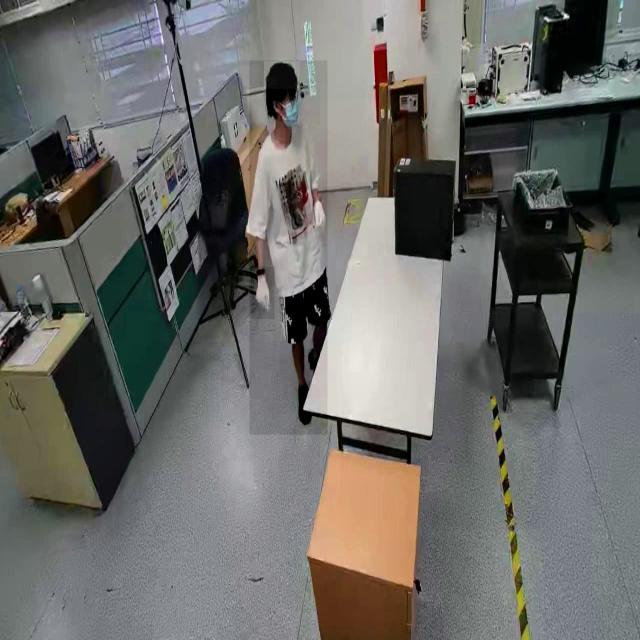face_mask: (276, 90, 302, 129)
hand_glove: (250, 267, 274, 320), (311, 195, 331, 230)
head_nohelmet: (264, 61, 300, 90)
person: (249, 61, 327, 436)
